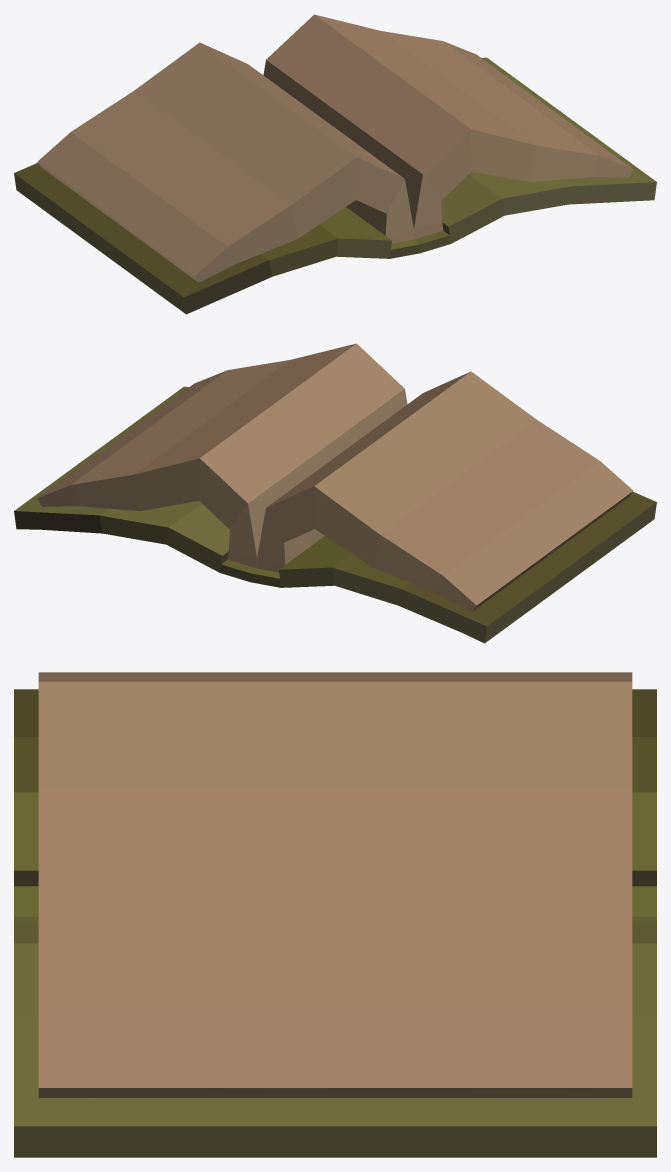
Rendered from Prop_BookJ.fbx.
3 renders of one model, top to bottom at view 1: azimuth 30°, elevation 25°; view 2: azimuth 150°, elevation 25°; view 3: azimuth 270°, elevation 25°, orthographic. The views are drawn at different scales.
Parts seen in each view (by area): view 1: Prop_BookJ; view 2: Prop_BookJ; view 3: Prop_BookJ.
Boxes of the visible parts, x1,y1,x2,y2 form: Prop_BookJ: (14, 14, 656, 314); Prop_BookJ: (14, 343, 656, 643); Prop_BookJ: (14, 672, 656, 1157).
Size of the model in its own units: 54.69 by 12.08 by 34.01.
